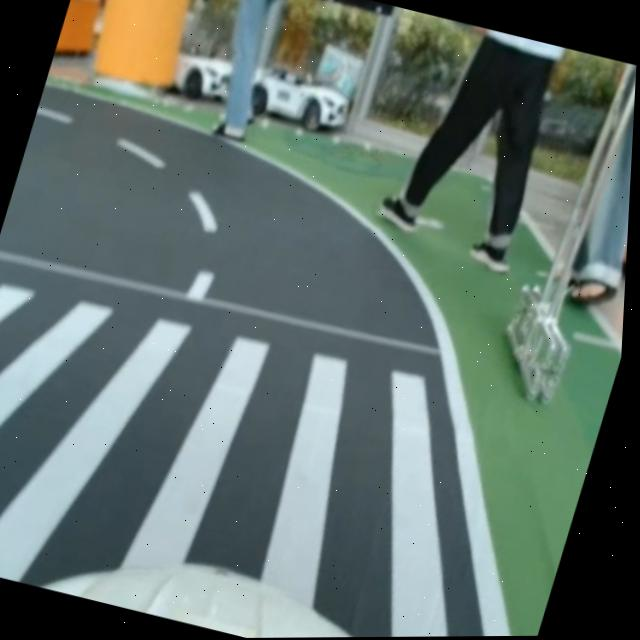traffic-light: (152, 0, 395, 20)
